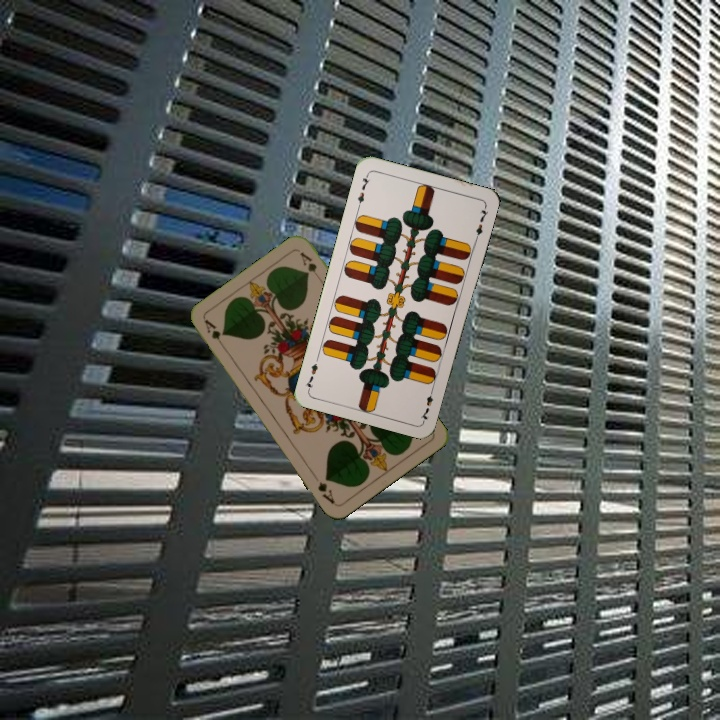E7: (416, 383, 437, 423), (353, 170, 372, 210)
GA: (200, 315, 228, 352)
